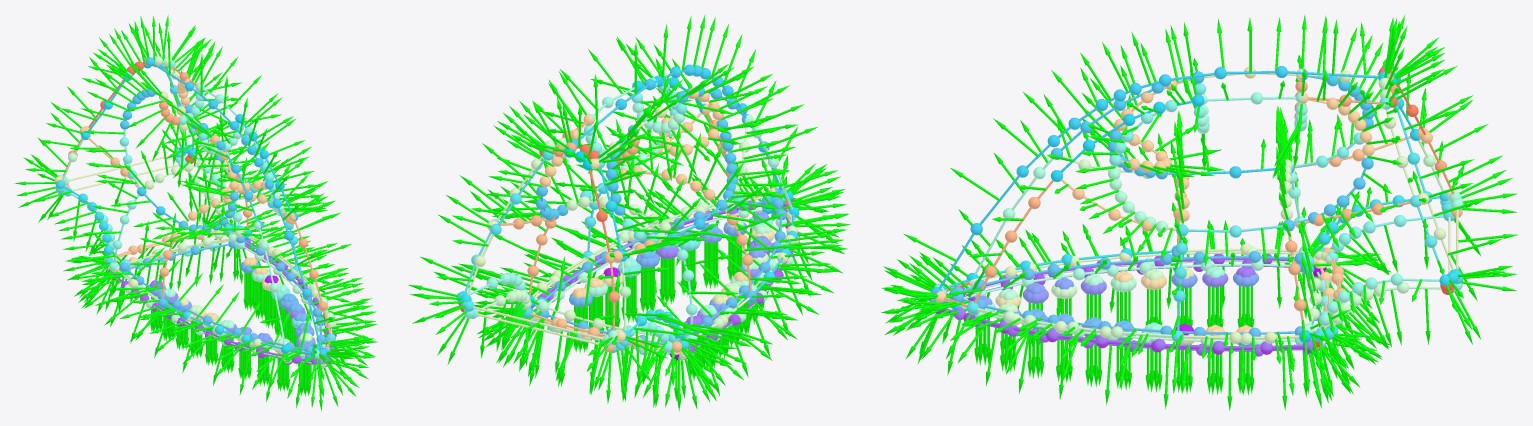
File: onshape_iron.gltf
The picture shows the model from 3 angles, left to right: view 1: azimuth 30°, elevation 25°; view 2: azimuth 150°, elevation 25°; view 3: azimuth 270°, elevation 25°; orthographic projection. The views are drawn at different scales.
Bounding box in the file's own units: 0.5351 × 0.6187 × 1.03.
